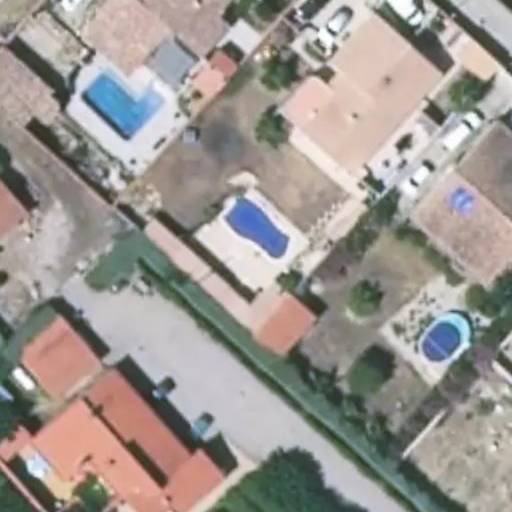pool: (216, 231, 295, 252)
